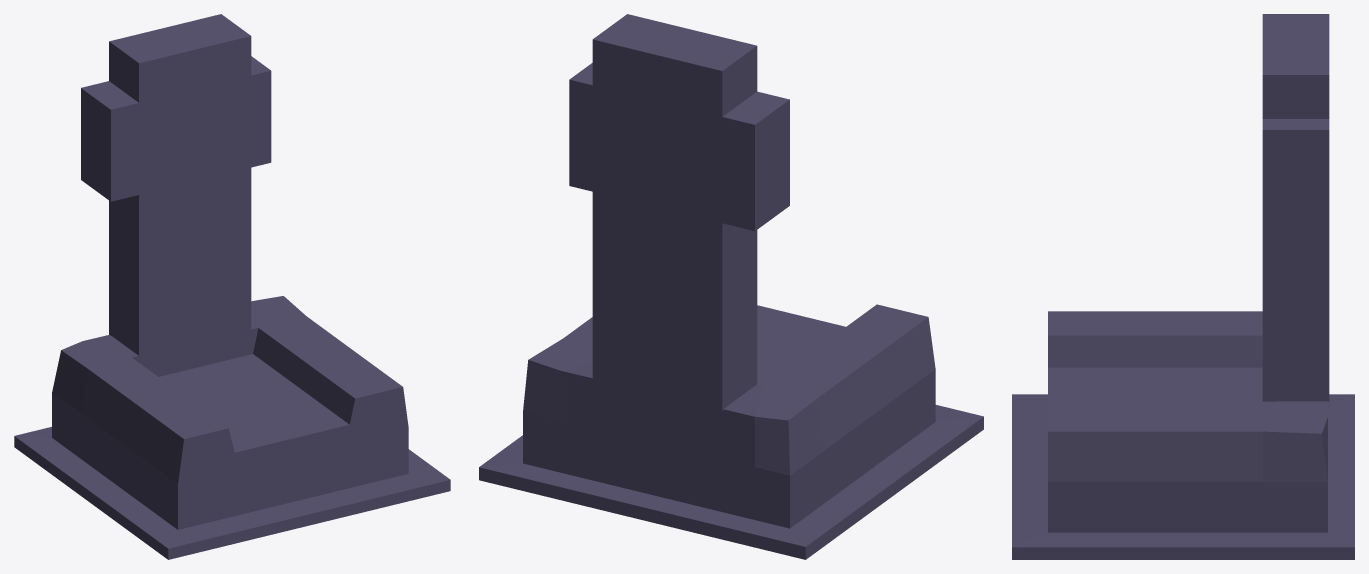
Rendered from stonethrone.fbx.
3 views of the same model, side by side, from view 1: azimuth 30°, elevation 25°; view 2: azimuth 150°, elevation 25°; view 3: azimuth 270°, elevation 25° (orthographic). The views are drawn at different scales.
Parts seen in each view (by area): view 1: StoneThrone; view 2: StoneThrone; view 3: StoneThrone.
Boxes of the visible parts, x1,y1,x2,y2 form: StoneThrone: (14, 14, 450, 559); StoneThrone: (479, 14, 983, 559); StoneThrone: (1012, 14, 1354, 559).
Size of the model in its own units: 5.58 by 7.44 by 5.28.
